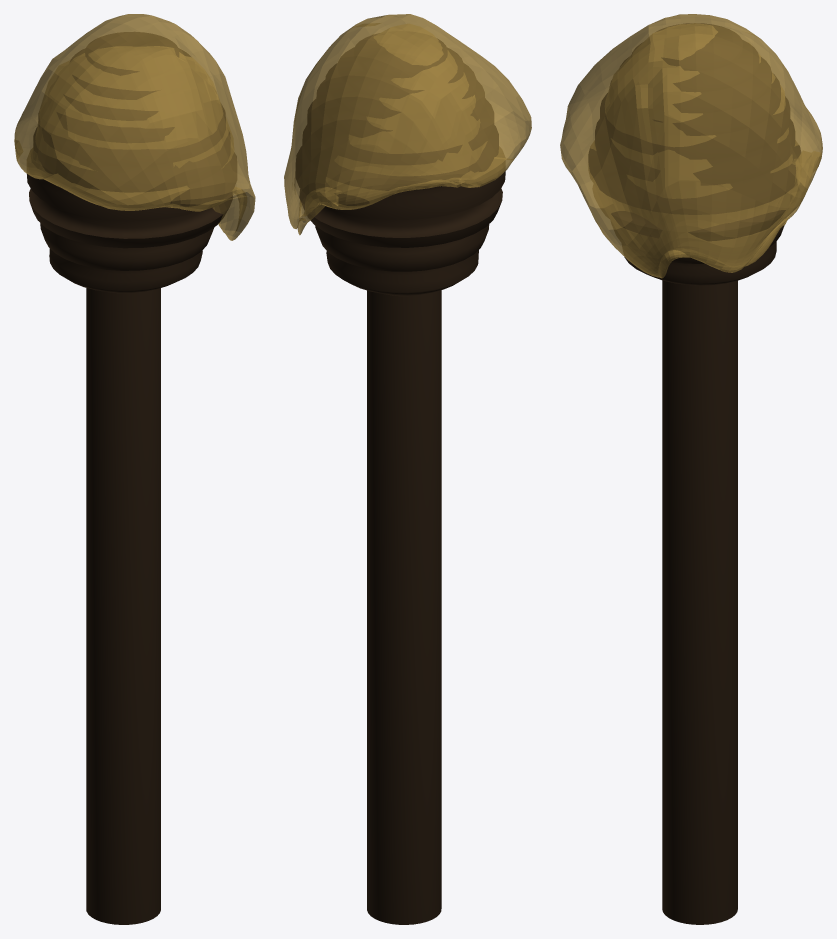
Rendered from Miel.fbx.
3 renders of one model, left to right at view 1: azimuth 30°, elevation 25°; view 2: azimuth 150°, elevation 25°; view 3: azimuth 270°, elevation 25°, orthographic.
Parts seen in each view (by area): view 1: Cylinder; view 2: Cylinder; view 3: Cylinder.
Part boxes in pixels (box(x1,y1,x2,y2)): Cylinder: box(14, 14, 255, 924); Cylinder: box(284, 14, 531, 924); Cylinder: box(560, 14, 822, 924).
Size of the model in its own units: 5.07 by 20.2 by 5.38.
